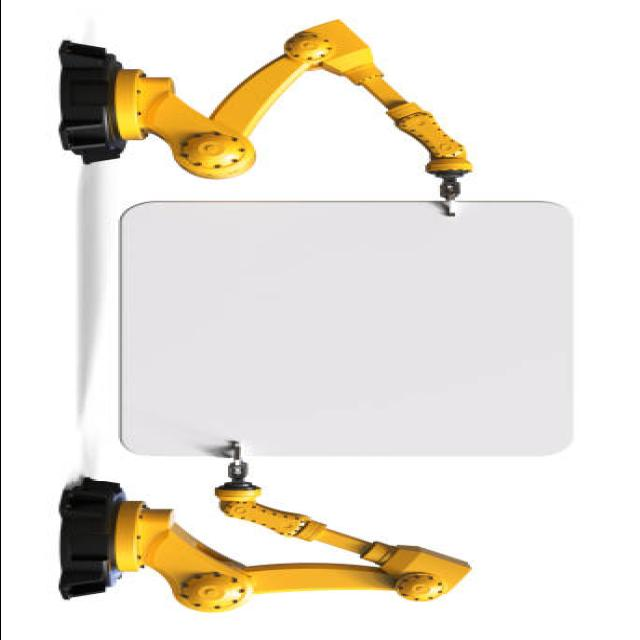Robotic-arm: (49, 17, 475, 209), (43, 472, 480, 622)
